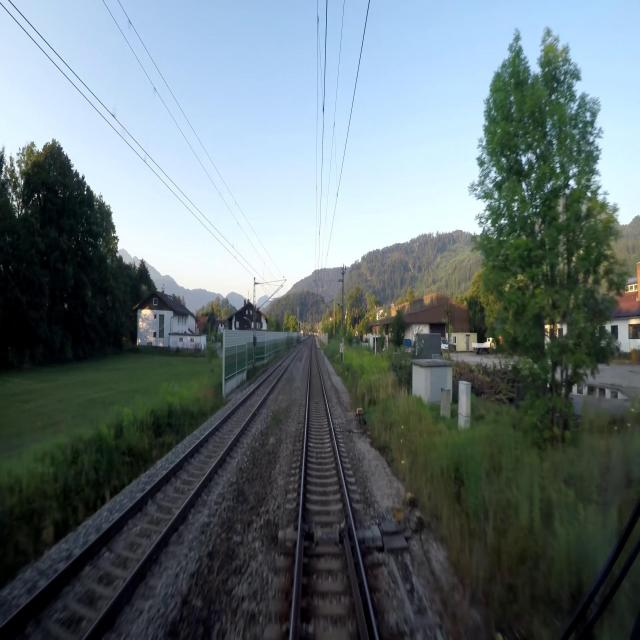rail-track: (0, 358, 289, 639), (293, 346, 374, 639)
